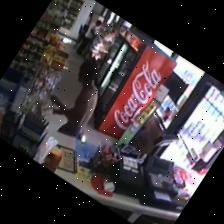person: (50, 61, 98, 138), (77, 21, 101, 54)
